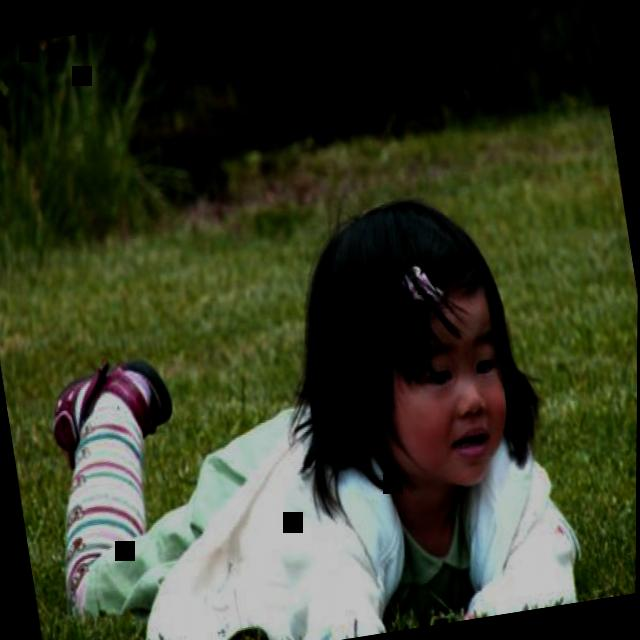Fall-Detected: (0, 127, 627, 640)
